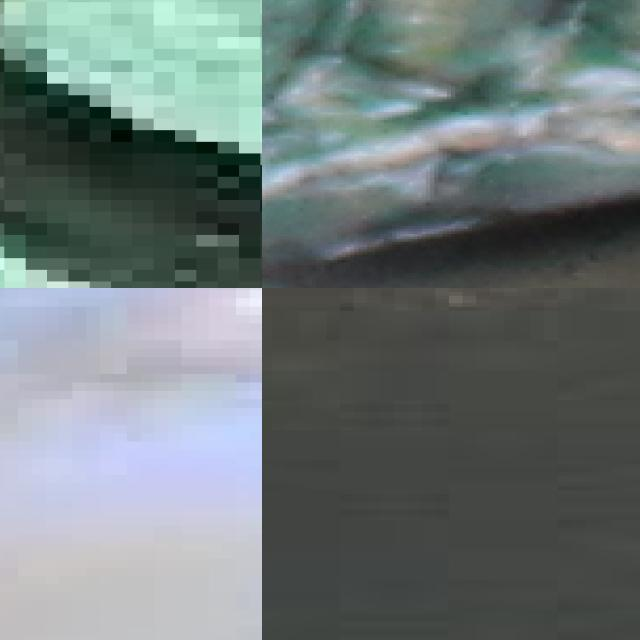fish: (262, 0, 640, 288), (0, 288, 262, 640), (262, 288, 640, 520), (0, 0, 262, 288)
